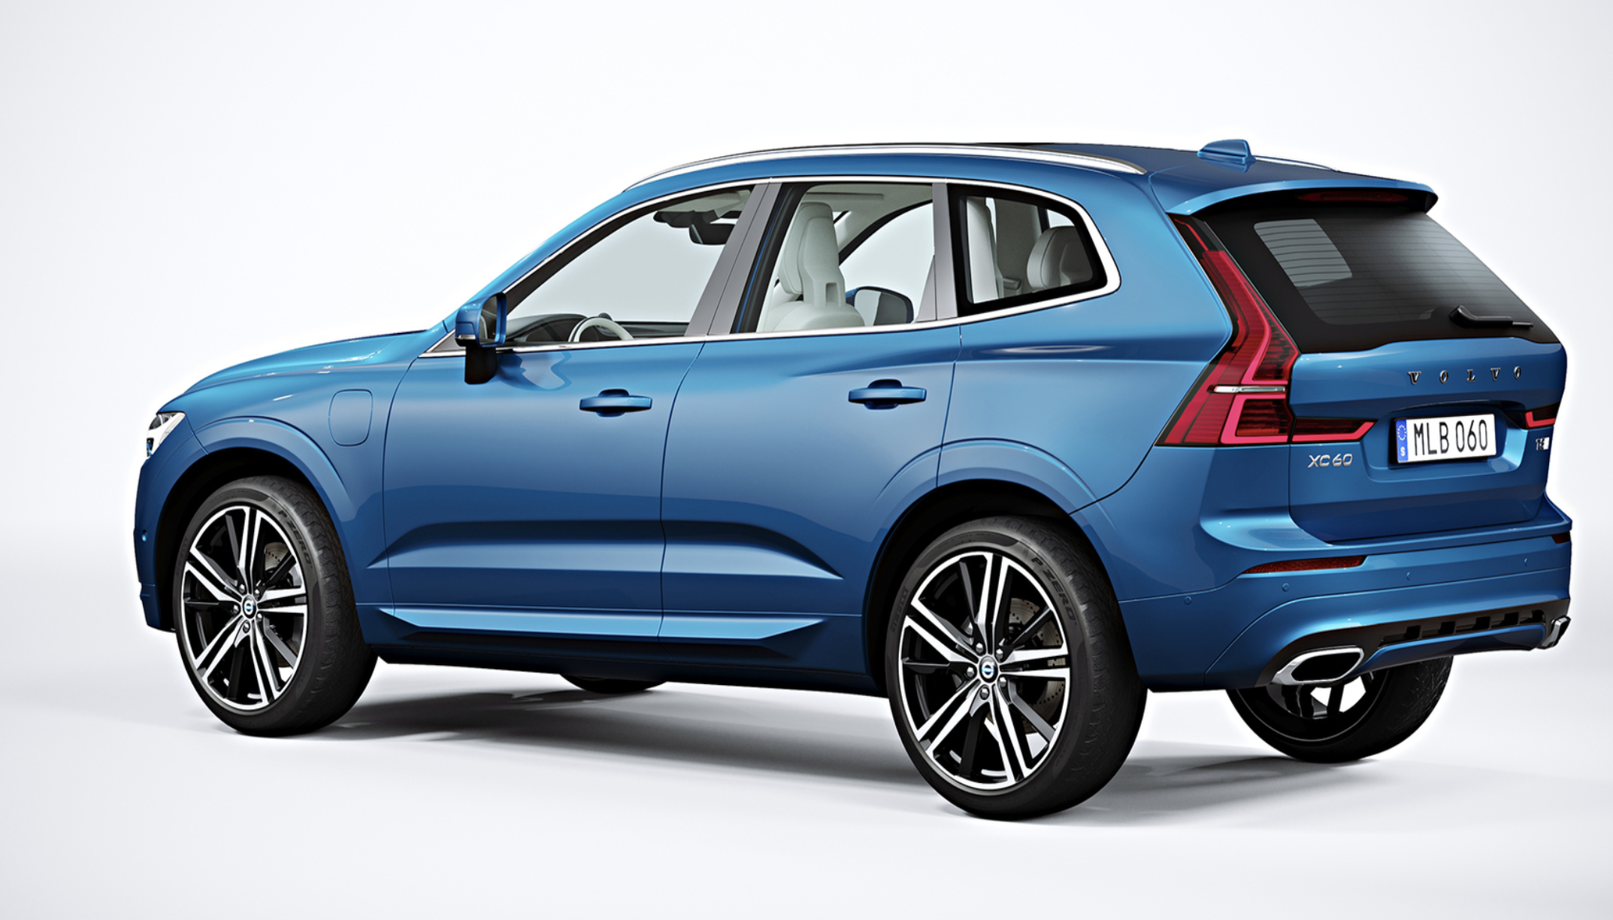hatch: (325, 384, 380, 452)
